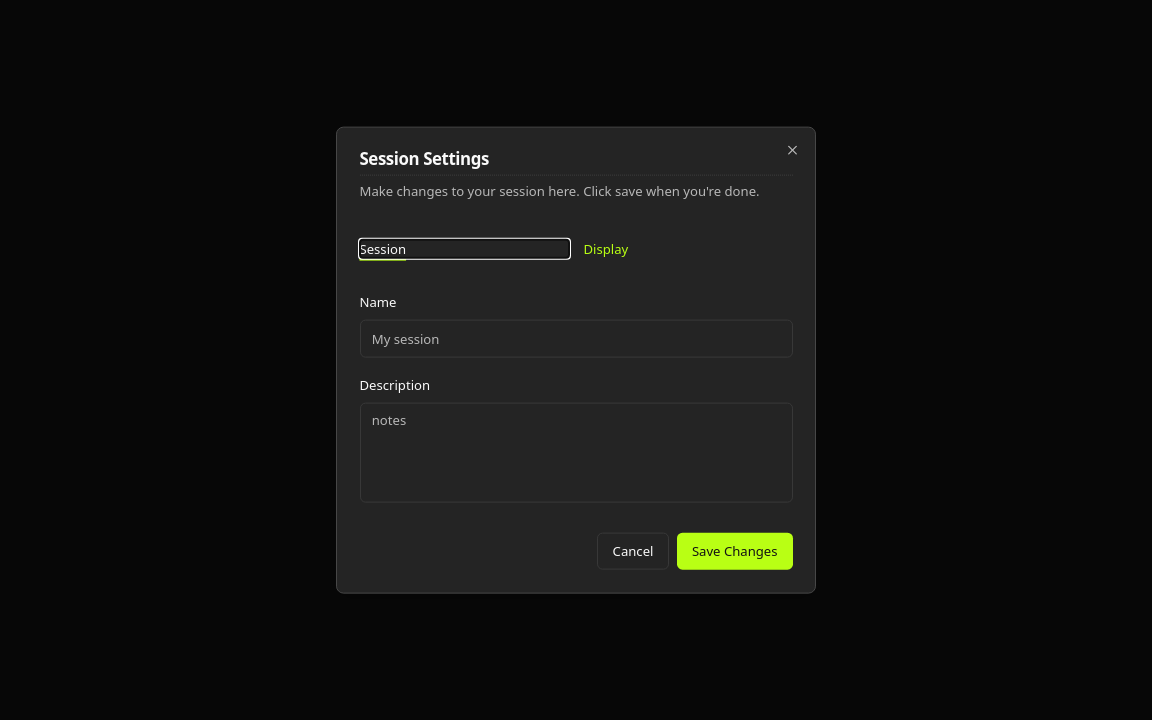
reconnect warning › appears when an init setting changes
Press the mouse on the tab "Display": (688, 249) [584,239,792,258]
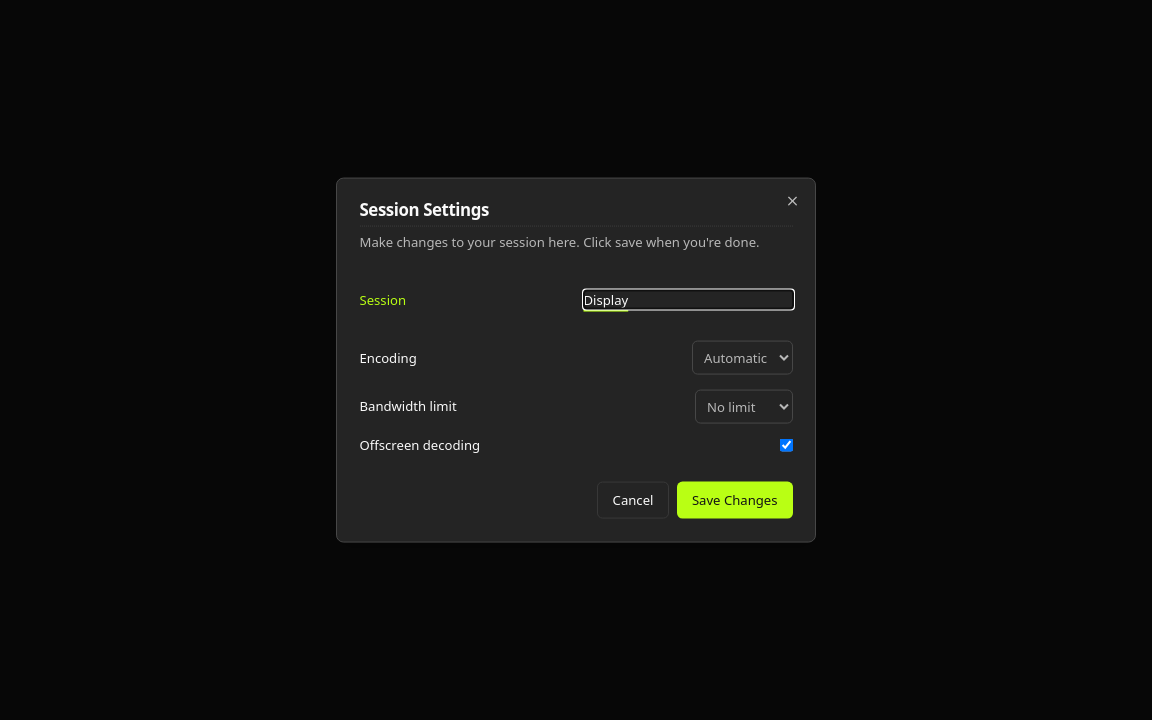
Select "JPEG" in the dropdown labelled "Encoding": (742, 358) [692,341,792,375]
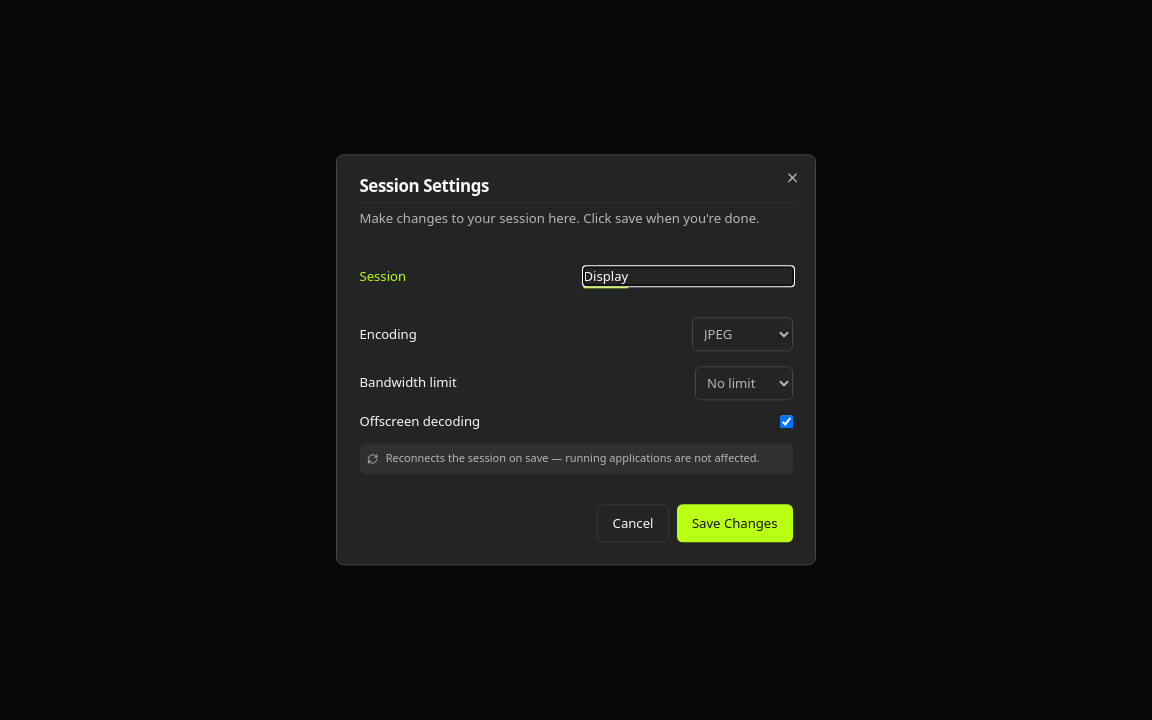
Result: the text "Reconnects the session" is shown at [386,451,760,466]
